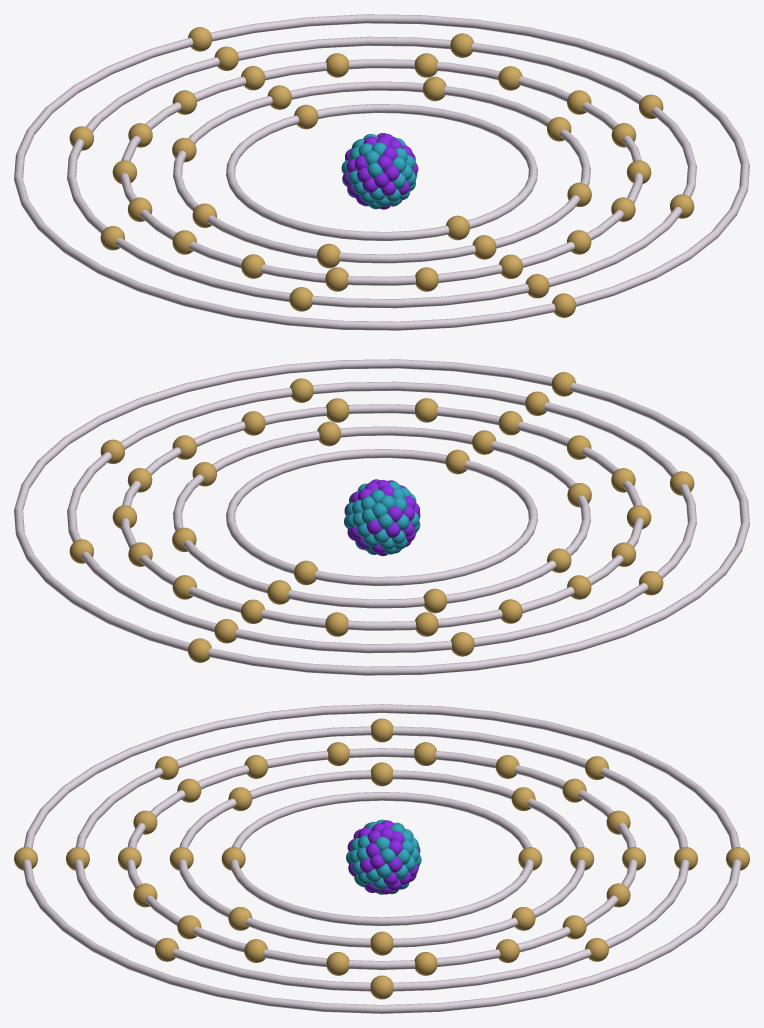
File: estroncio.glb
3 views of the same model, one above another, from view 1: azimuth 30°, elevation 25°; view 2: azimuth 150°, elevation 25°; view 3: azimuth 270°, elevation 25° (orthographic). The views are drawn at different scales.
Parts seen in each view (by area): view 1: Orbita_5, Orbita_4, Orbita_3, Orbita_2, Orbita_1, Nucleo_Completo; view 2: Orbita_5, Orbita_4, Orbita_3, Orbita_2, Orbita_1, Nucleo_Completo; view 3: Orbita_5, Orbita_4, Orbita_3, Orbita_2, Orbita_1, Nucleo_Completo.
Boxes of the visible parts, <box> form: Orbita_5: <box>14,14,749,330</box>; Orbita_4: <box>67,36,696,308</box>; Orbita_3: <box>120,59,643,285</box>; Orbita_2: <box>173,81,590,263</box>; Orbita_1: <box>226,104,537,240</box>; Nucleo_Completo: <box>341,133,418,209</box>; Orbita_5: <box>14,359,749,675</box>; Orbita_4: <box>67,381,696,653</box>; Orbita_3: <box>120,404,643,630</box>; Orbita_2: <box>173,426,590,608</box>; Orbita_1: <box>226,449,537,585</box>; Nucleo_Completo: <box>344,479,420,556</box>; Orbita_5: <box>22,704,741,1013</box>; Orbita_4: <box>74,726,689,991</box>; Orbita_3: <box>126,748,637,969</box>; Orbita_2: <box>178,770,585,947</box>; Orbita_1: <box>230,792,533,925</box>; Nucleo_Completo: <box>346,819,421,894</box>.
Bounding box in the file's own units: 4.86 × 0.5075 × 4.96.
